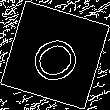O_NE: (22, 24, 88, 86)
